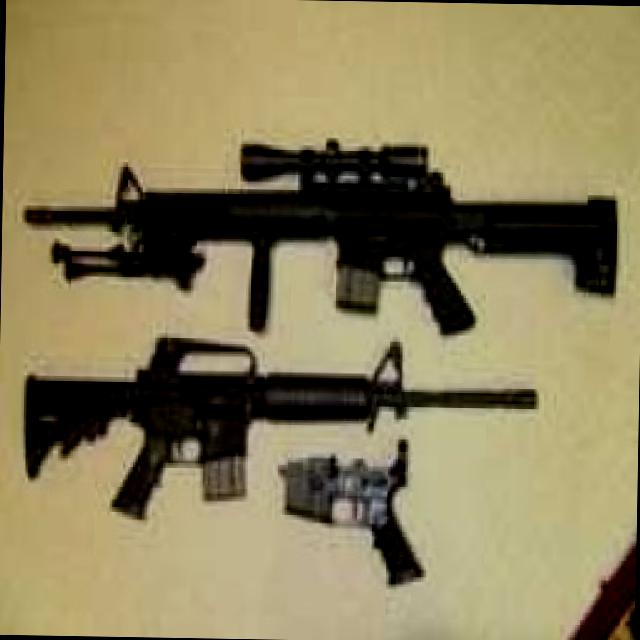long weapon: (33, 126, 629, 313), (6, 336, 558, 510)
